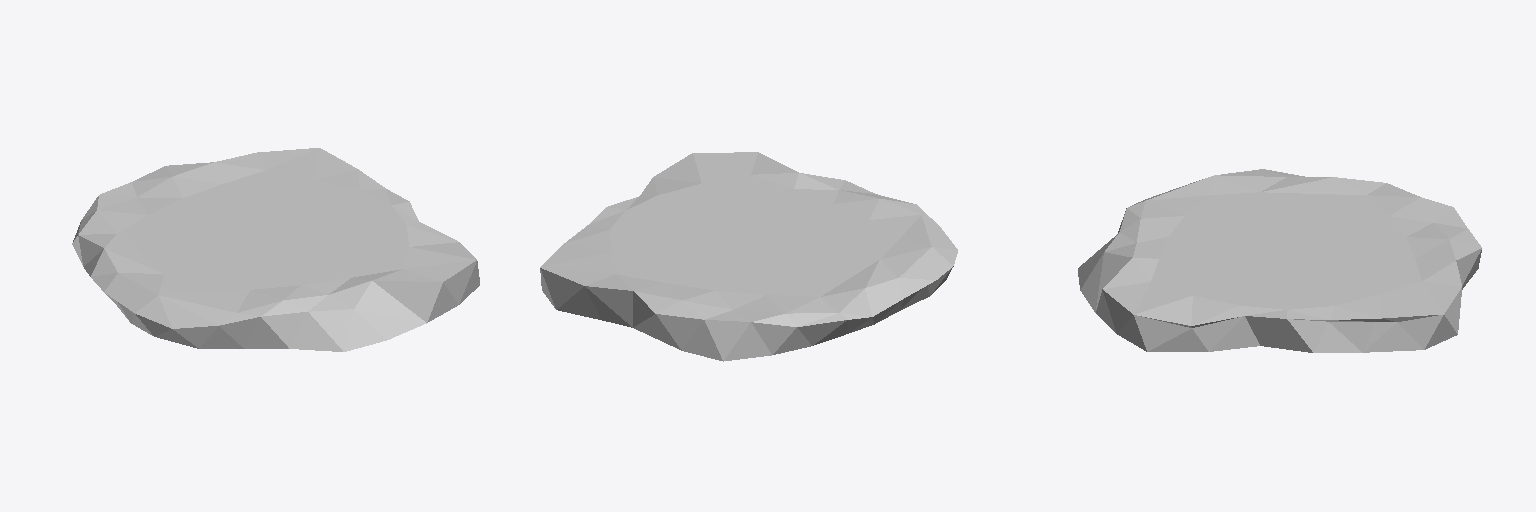
The model's file is ground2.obj.
3 renders of one model, left to right at view 1: azimuth 30°, elevation 25°; view 2: azimuth 150°, elevation 25°; view 3: azimuth 270°, elevation 25°, orthographic.
Visible parts, largest first — view 1: Ground_Texture-base_0; view 2: Ground_Texture-base_0; view 3: Ground_Texture-base_0.
Boxes of the visible parts, x1=… form: Ground_Texture-base_0: x1=72, y1=148, x2=479, y2=351; Ground_Texture-base_0: x1=540, y1=152, x2=957, y2=361; Ground_Texture-base_0: x1=1078, y1=169, x2=1481, y2=352.
Size of the model in its own units: 27.22 by 3.08 by 29.78.